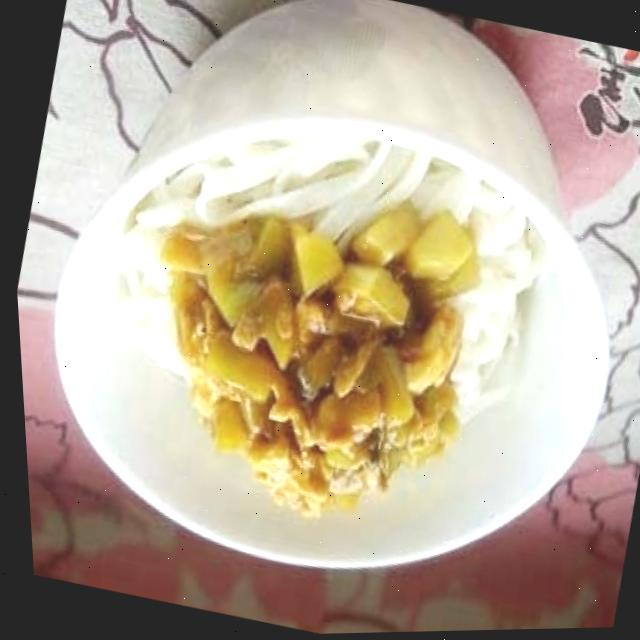面条主食: (3, 52, 640, 638)
